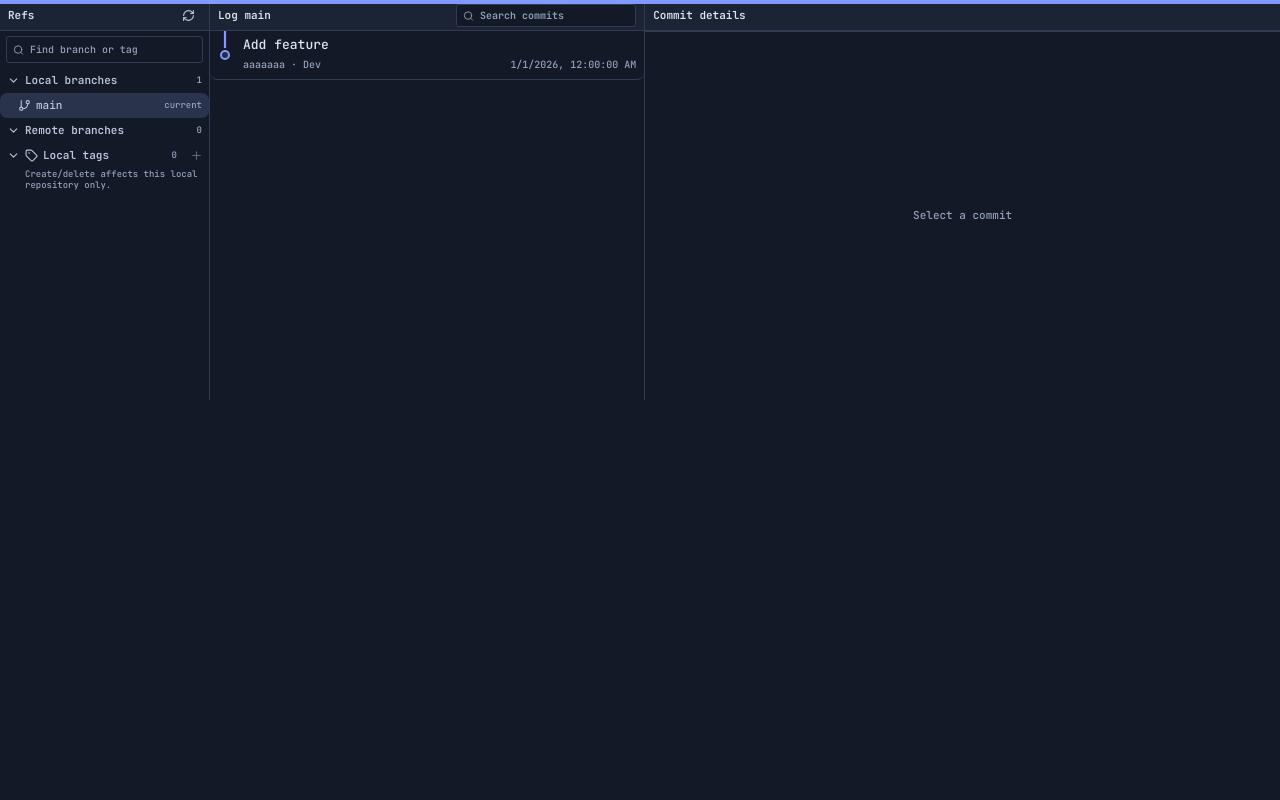
Test: applies a whole commit without committing and refreshes repository state
Right-click the button "Add feature aaaaaaa · Dev 1/1/2026, 12:00:00 AM".
right_click(286, 44)  # box [210,31,644,80]
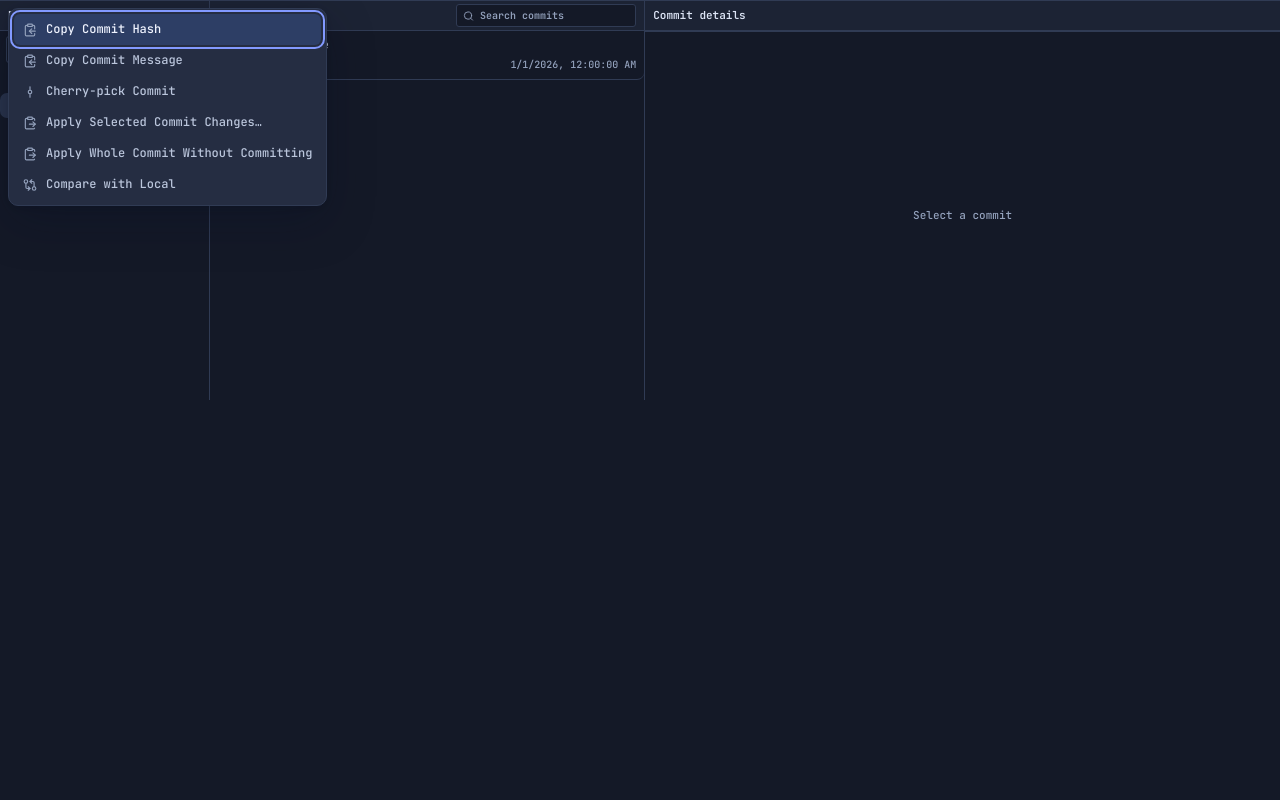
Click the button "Apply Whole Commit Without Committing".
click(168, 154)  # box [14,138,321,169]
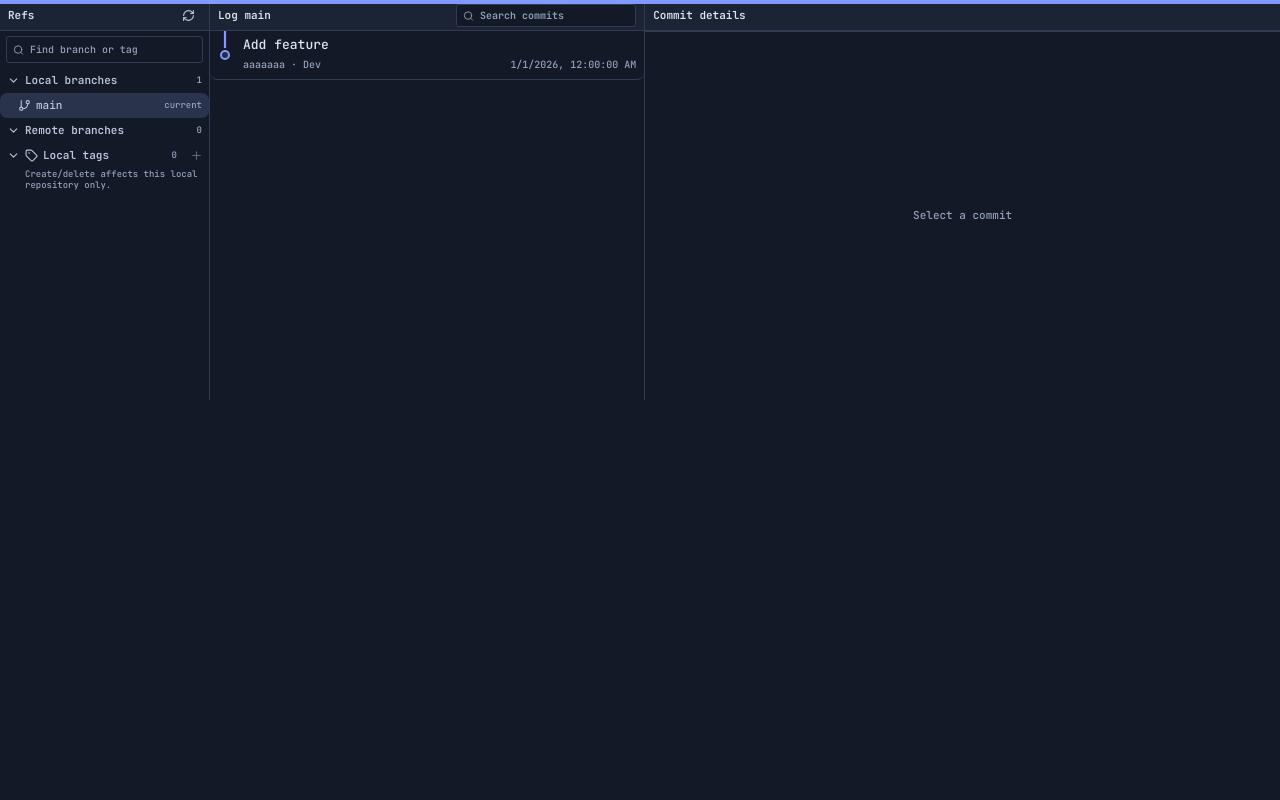
Right-click the button "Add feature aaaaaaa · Dev 1/1/2026, 12:00:00 AM".
right_click(286, 44)  # box [210,31,644,80]
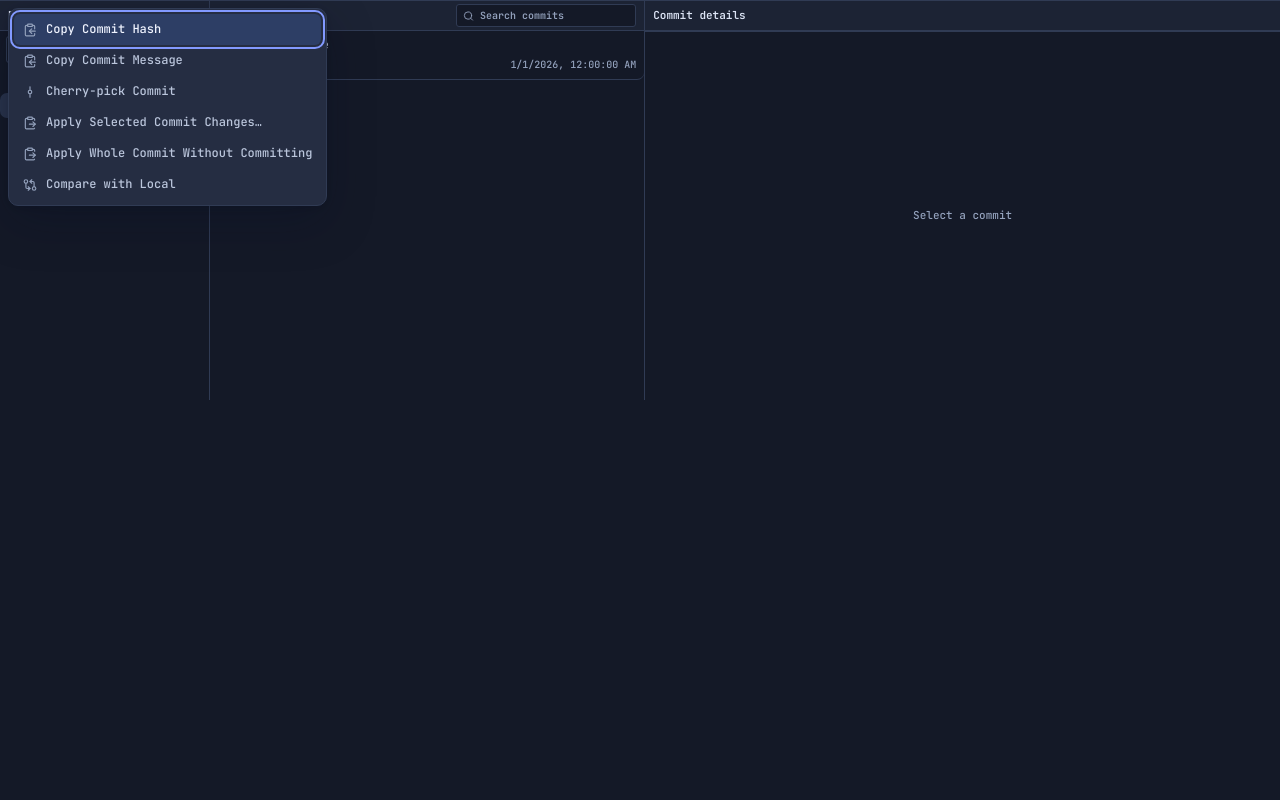
Click the button "Apply Selected Commit Changes…".
click(168, 122)  # box [14,107,321,138]
(page scrolled)
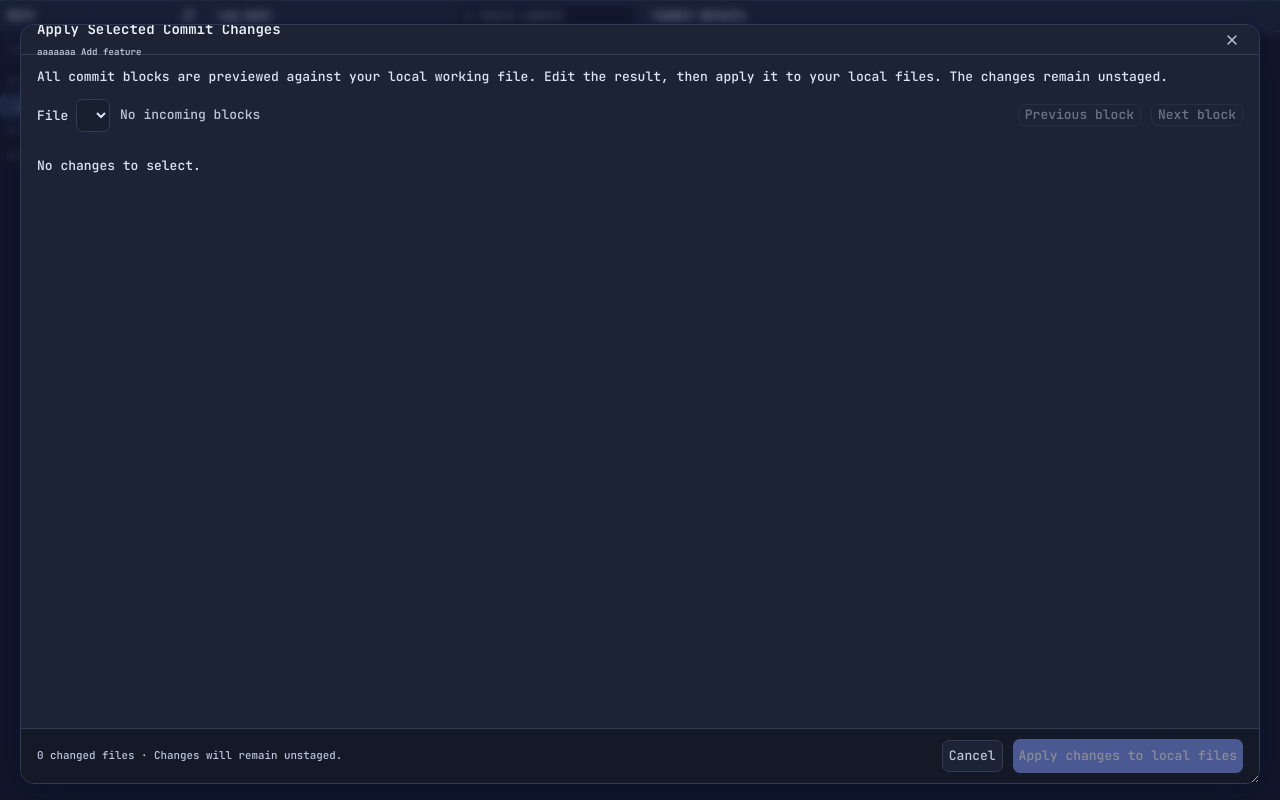
Result: the dialog "Apply Selected Commit Changes" is shown
